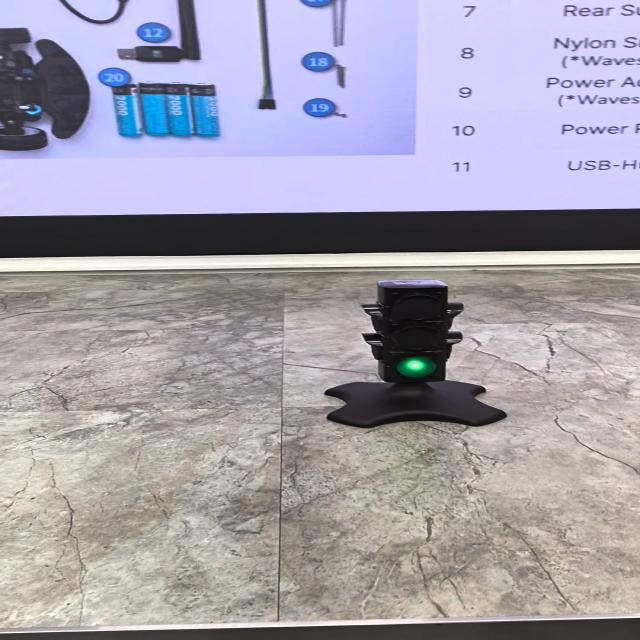green_light: (397, 358, 436, 378)
